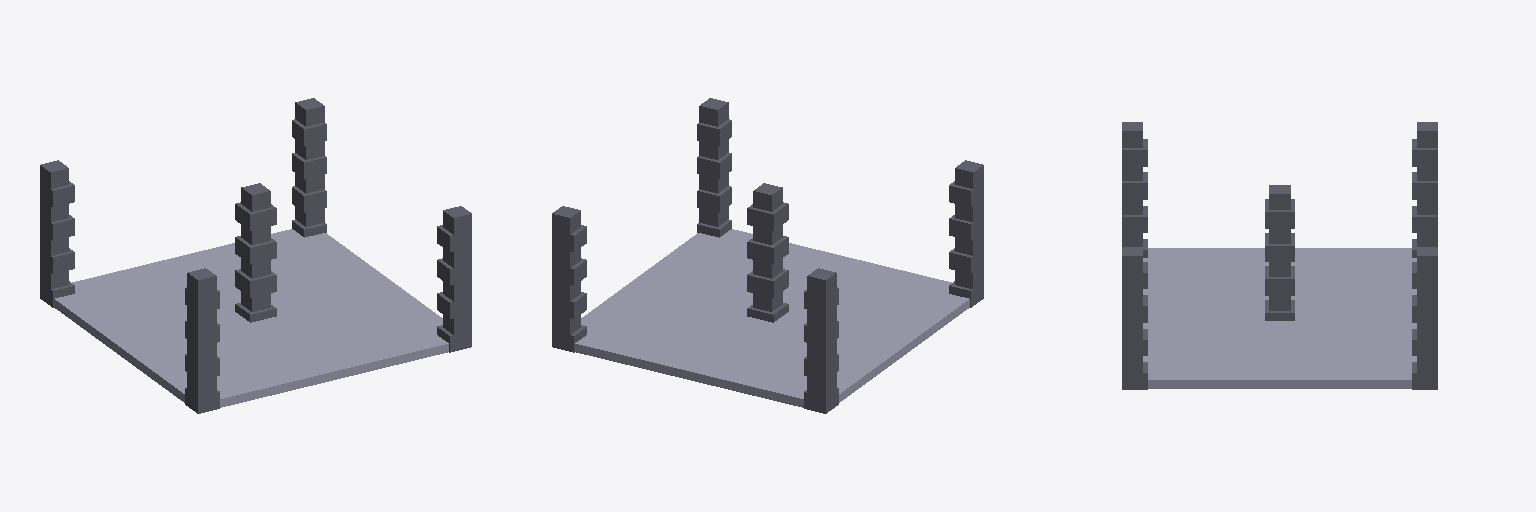
The model's file is intersection_4way_04.obj.
The picture shows the model from 3 angles: view 1: azimuth 30°, elevation 25°; view 2: azimuth 150°, elevation 25°; view 3: azimuth 270°, elevation 25°; orthographic projection.
Visible parts, largest first — view 1: floor_01_73, pillar_02_94, wall_borderBricks_98, wall_borderBricks_97, wall_borderBricks_95, wall_borderBricks_96; view 2: floor_01_73, pillar_02_94, wall_borderBricks_95, wall_borderBricks_96, wall_borderBricks_98, wall_borderBricks_97; view 3: floor_01_73, pillar_02_94, wall_borderBricks_96, wall_borderBricks_97, wall_borderBricks_95, wall_borderBricks_98.
Part boxes in pixels (left/top/right/bottom): floor_01_73: left=54, top=229, right=448, bottom=407; pillar_02_94: left=235, top=183, right=276, bottom=322; wall_borderBricks_98: left=185, top=268, right=219, bottom=413; wall_borderBricks_97: left=437, top=206, right=471, bottom=352; wall_borderBricks_95: left=40, top=160, right=74, bottom=307; wall_borderBricks_96: left=292, top=98, right=326, bottom=237; floor_01_73: left=575, top=229, right=969, bottom=407; pillar_02_94: left=747, top=183, right=788, bottom=322; wall_borderBricks_95: left=804, top=268, right=838, bottom=413; wall_borderBricks_96: left=552, top=206, right=586, bottom=352; wall_borderBricks_98: left=949, top=160, right=983, bottom=307; wall_borderBricks_97: left=697, top=98, right=731, bottom=237; floor_01_73: left=1143, top=248, right=1416, bottom=388; pillar_02_94: left=1265, top=185, right=1294, bottom=320; wall_borderBricks_96: left=1412, top=247, right=1437, bottom=389; wall_borderBricks_97: left=1122, top=247, right=1147, bottom=389; wall_borderBricks_95: left=1412, top=122, right=1437, bottom=257; wall_borderBricks_98: left=1122, top=122, right=1147, bottom=257.
Size of the model in its own units: 2.15 by 1 by 2.15.